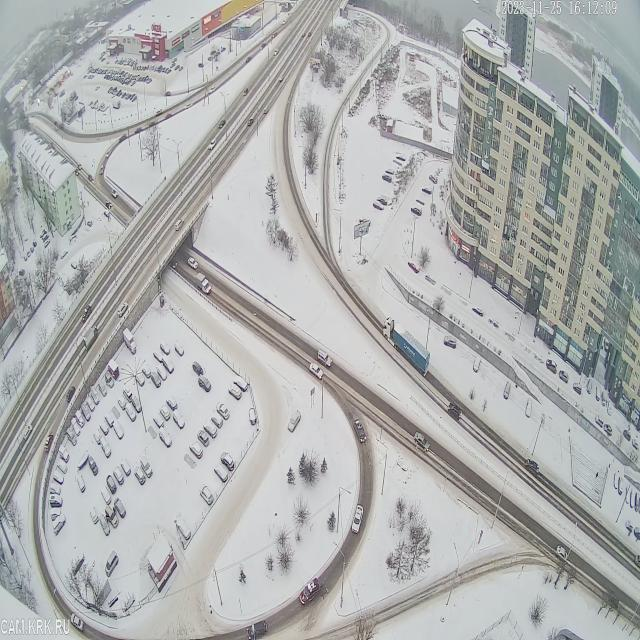car: (384, 316, 430, 380), (300, 579, 319, 608), (195, 273, 212, 297), (122, 328, 137, 355), (198, 482, 214, 507), (246, 622, 268, 640), (105, 550, 119, 578), (353, 416, 367, 444), (83, 326, 99, 350), (351, 502, 363, 534), (176, 515, 190, 542), (213, 460, 228, 485), (414, 431, 430, 454), (316, 348, 332, 370), (188, 440, 204, 460), (288, 410, 301, 434), (220, 451, 234, 473), (158, 428, 172, 450), (172, 409, 186, 431), (105, 507, 119, 529), (233, 374, 248, 394), (140, 456, 153, 479), (121, 592, 135, 613), (216, 400, 230, 421), (310, 361, 324, 382), (53, 513, 65, 537), (113, 497, 126, 519), (117, 298, 130, 320), (203, 420, 218, 439), (525, 458, 539, 478), (98, 514, 110, 537), (228, 381, 241, 402), (165, 392, 178, 413), (133, 465, 146, 486), (448, 401, 461, 422), (198, 372, 211, 392), (161, 354, 174, 374), (107, 359, 120, 379), (99, 486, 112, 505), (125, 403, 137, 423), (113, 466, 125, 486), (106, 474, 118, 494), (196, 430, 210, 447), (71, 614, 84, 632), (210, 411, 223, 429), (100, 437, 111, 458), (81, 304, 92, 325), (156, 363, 168, 382), (88, 457, 99, 477), (113, 420, 124, 440), (173, 340, 185, 358), (122, 385, 134, 403), (545, 358, 557, 376), (556, 546, 568, 564), (115, 392, 126, 411), (120, 458, 131, 477), (159, 404, 171, 421), (152, 412, 164, 429), (103, 372, 115, 389), (132, 394, 142, 414), (134, 369, 144, 389), (89, 505, 99, 525), (44, 432, 54, 452), (445, 333, 456, 351), (408, 256, 419, 274), (48, 495, 63, 508), (359, 212, 371, 228), (67, 428, 77, 447), (153, 346, 164, 363), (150, 372, 161, 389), (80, 404, 91, 421), (59, 446, 70, 463), (472, 301, 483, 318), (141, 361, 151, 379), (75, 410, 85, 428), (71, 418, 81, 436), (104, 409, 114, 427), (188, 254, 198, 272), (372, 198, 384, 213), (192, 362, 203, 378), (411, 202, 422, 218), (91, 387, 100, 406), (472, 354, 481, 373), (66, 386, 76, 403), (52, 471, 64, 485), (57, 459, 68, 474), (76, 475, 85, 493), (160, 340, 170, 356), (86, 397, 96, 413), (99, 420, 109, 436), (524, 398, 532, 418), (558, 368, 568, 384), (382, 170, 392, 186), (50, 483, 61, 497), (50, 508, 61, 522), (93, 428, 102, 445), (23, 426, 33, 441), (573, 380, 582, 396), (603, 422, 612, 438), (98, 382, 108, 396), (174, 218, 184, 232), (594, 414, 604, 428), (422, 183, 432, 197), (503, 382, 511, 399), (612, 470, 618, 490), (396, 151, 406, 163), (429, 171, 437, 186), (378, 194, 387, 207), (208, 138, 216, 152), (618, 475, 623, 497), (634, 490, 639, 512), (625, 519, 633, 532), (386, 164, 394, 177), (586, 378, 592, 395), (632, 437, 639, 451), (630, 486, 634, 510), (634, 522, 640, 538), (607, 397, 612, 416), (633, 553, 640, 566), (595, 385, 600, 403), (218, 119, 226, 130), (626, 483, 630, 505), (601, 390, 606, 407), (624, 428, 630, 442), (246, 117, 254, 127), (60, 250, 68, 260), (242, 88, 249, 98), (103, 209, 110, 218), (263, 106, 269, 116), (87, 220, 92, 228)
